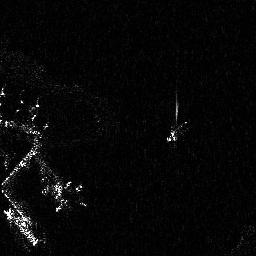ship: (2, 208, 39, 246), (166, 121, 190, 142)
